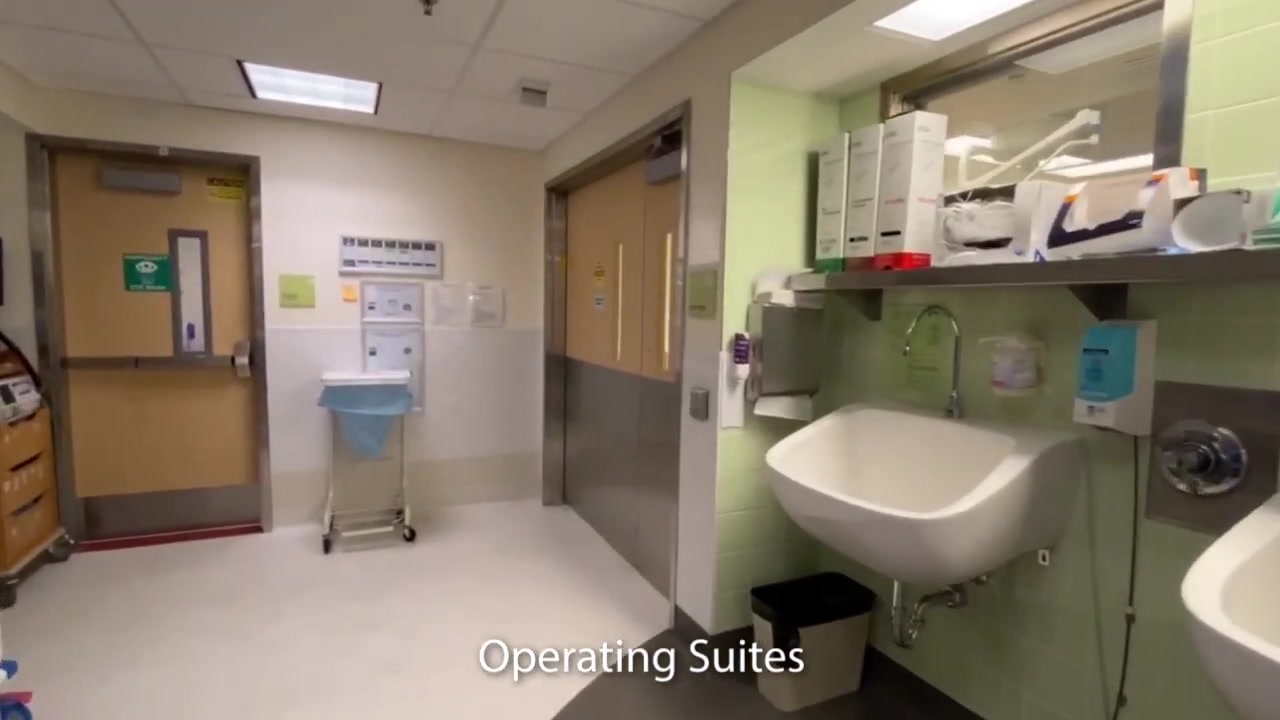countertop: (784, 243, 1280, 293)
dispenser: (1073, 319, 1157, 437), (749, 305, 827, 403), (979, 331, 1046, 396), (726, 332, 750, 386)
faucet: (898, 302, 964, 418)
press_to_open: (689, 387, 710, 421)
push_latch: (62, 337, 256, 381)
sink: (763, 399, 1086, 589), (1180, 489, 1280, 720)
waste_bin: (749, 566, 878, 720), (315, 370, 417, 554)
